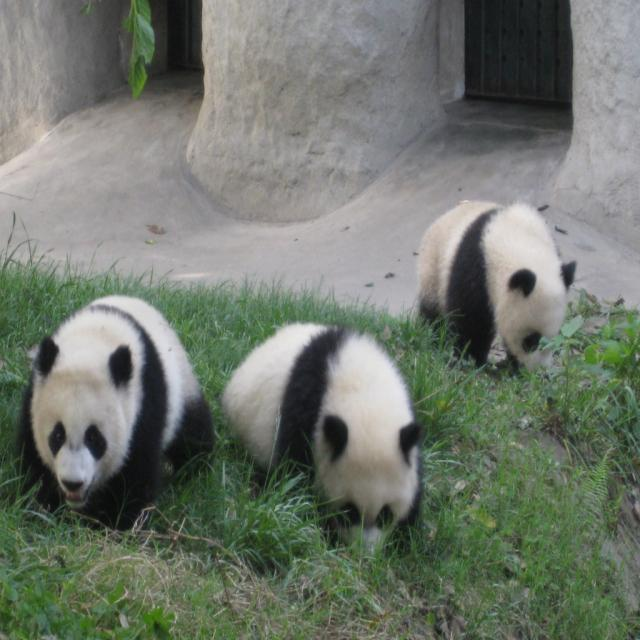panda: (219, 323, 424, 563), (15, 294, 216, 537), (411, 198, 579, 375)
